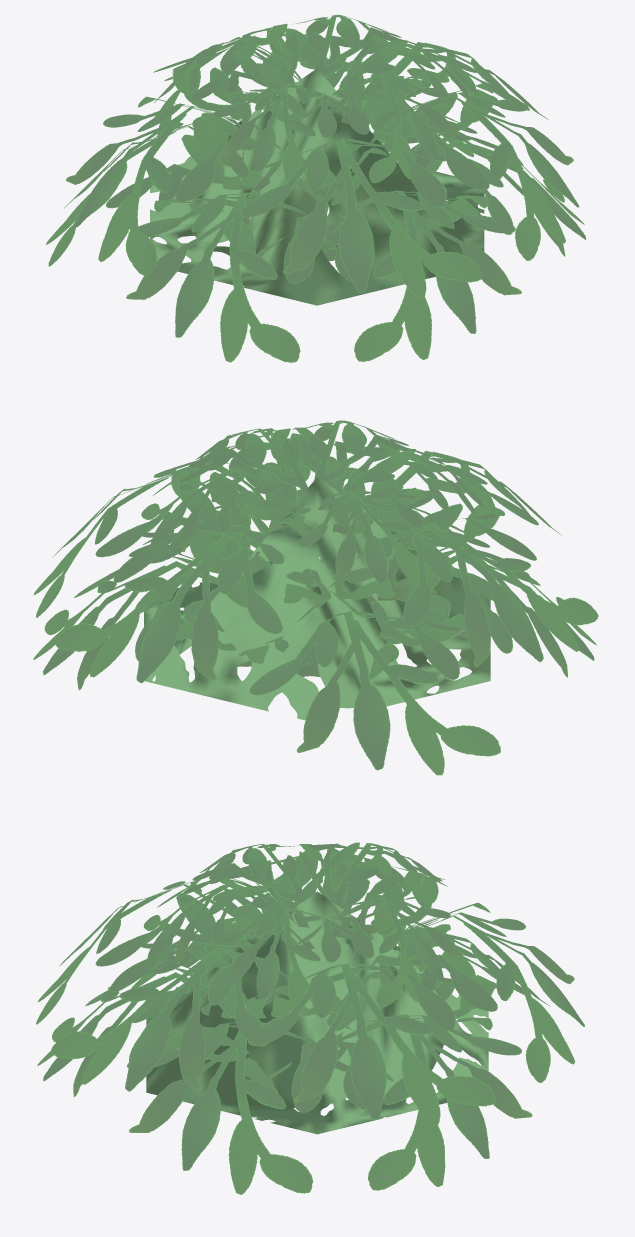
Rendered from Bush2.fbx.
3 renders of one model, top to bottom at view 1: azimuth 30°, elevation 25°; view 2: azimuth 150°, elevation 25°; view 3: azimuth 270°, elevation 25°, orthographic. The views are drawn at different scales.
Parts seen in each view (by area): view 1: pCone4; view 2: pCone4; view 3: pCone4.
Boxes of the visible parts, x1,y1,x2,y2 form: pCone4: (46,14,586,362); pCone4: (33,420,598,775); pCone4: (36,842,584,1194).
Bounding box in the file's own units: 1.7 × 0.6822 × 1.66.
